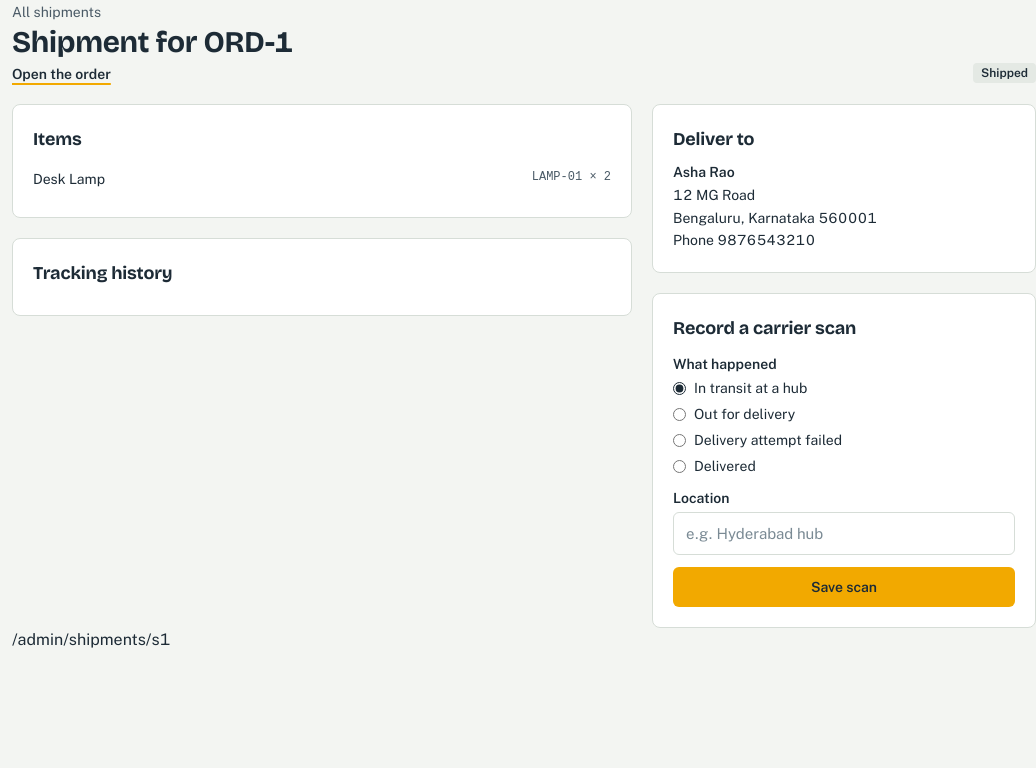
a shipment › needs a hub for an in-transit scan and a reason for a failed delivery
Click the button "Save scan".
click(844, 587)  # box [673, 567, 1015, 607]
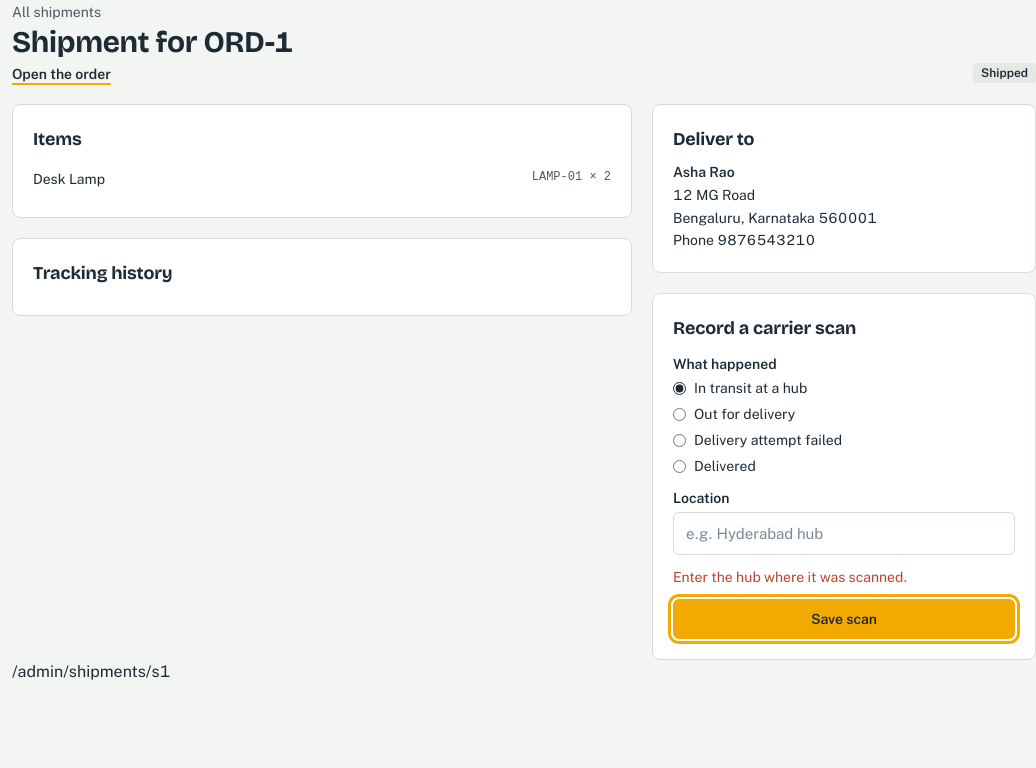
Expected: the text "Enter the hub where it was scanned." is shown, [673, 569, 908, 585]
Click the radio button labelled "Delivery attempt failed".
click(680, 440)  # box [673, 434, 686, 446]
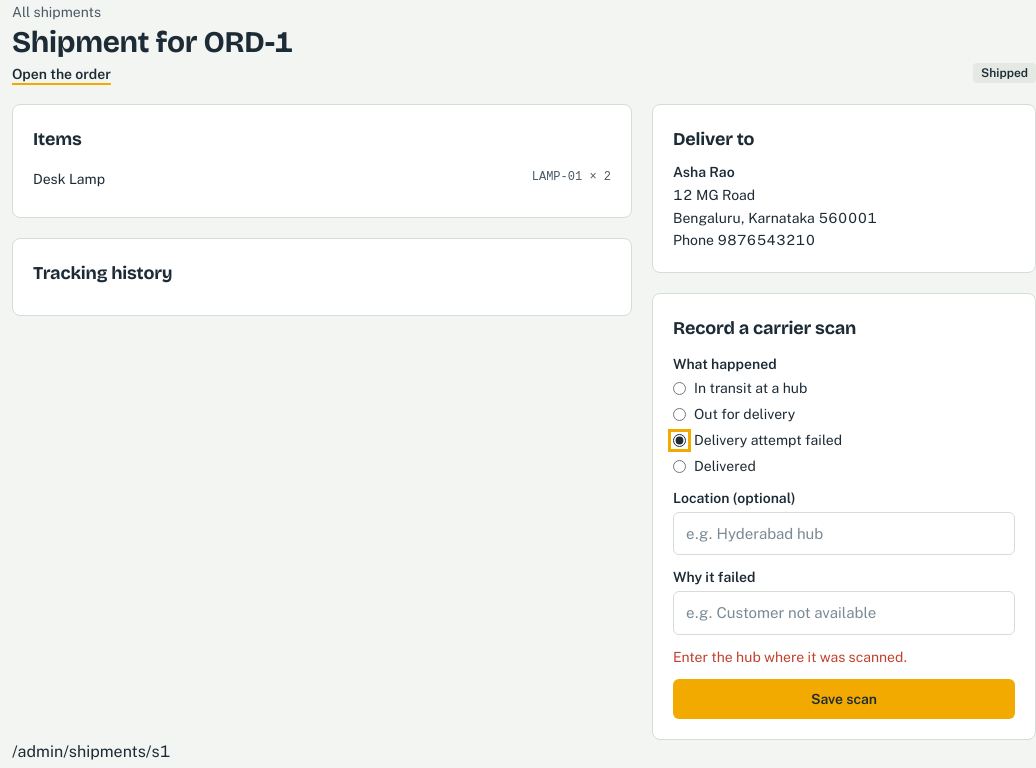
Click the button "Save scan".
click(844, 699)  # box [673, 679, 1015, 719]
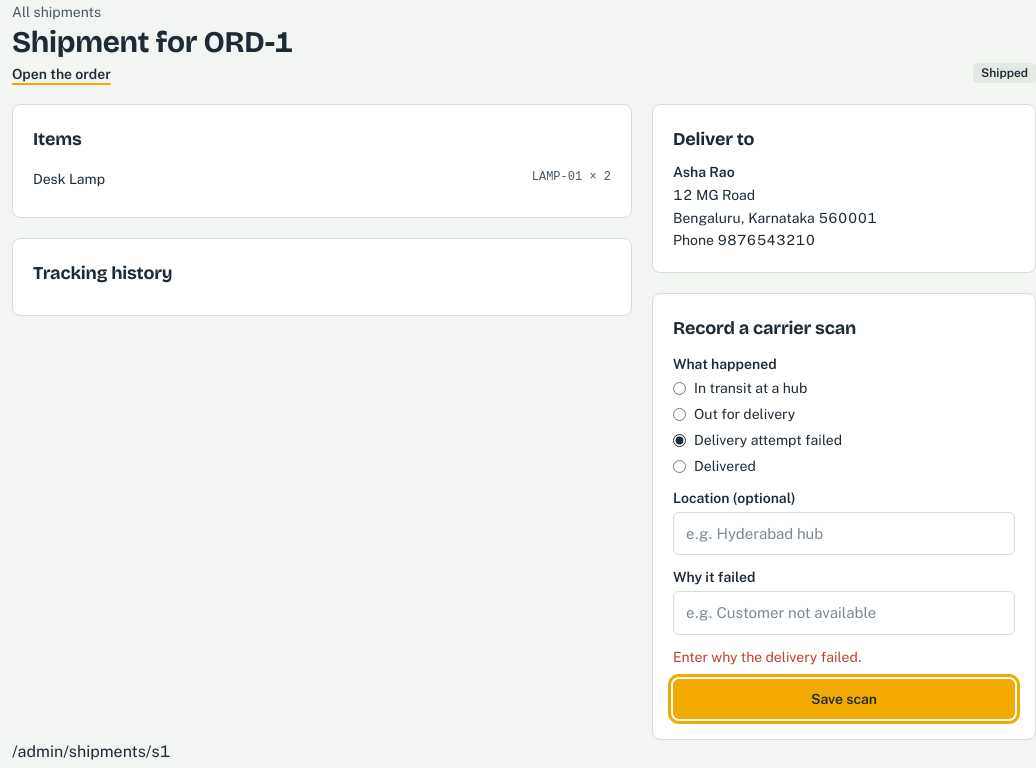
Expected: the text "Enter why the delivery failed." is shown, [673, 649, 862, 665]
Type "Customer not available" into the field labelled "Why it failed".
click(844, 613); type("Customer not available")  # box [673, 591, 1015, 635]
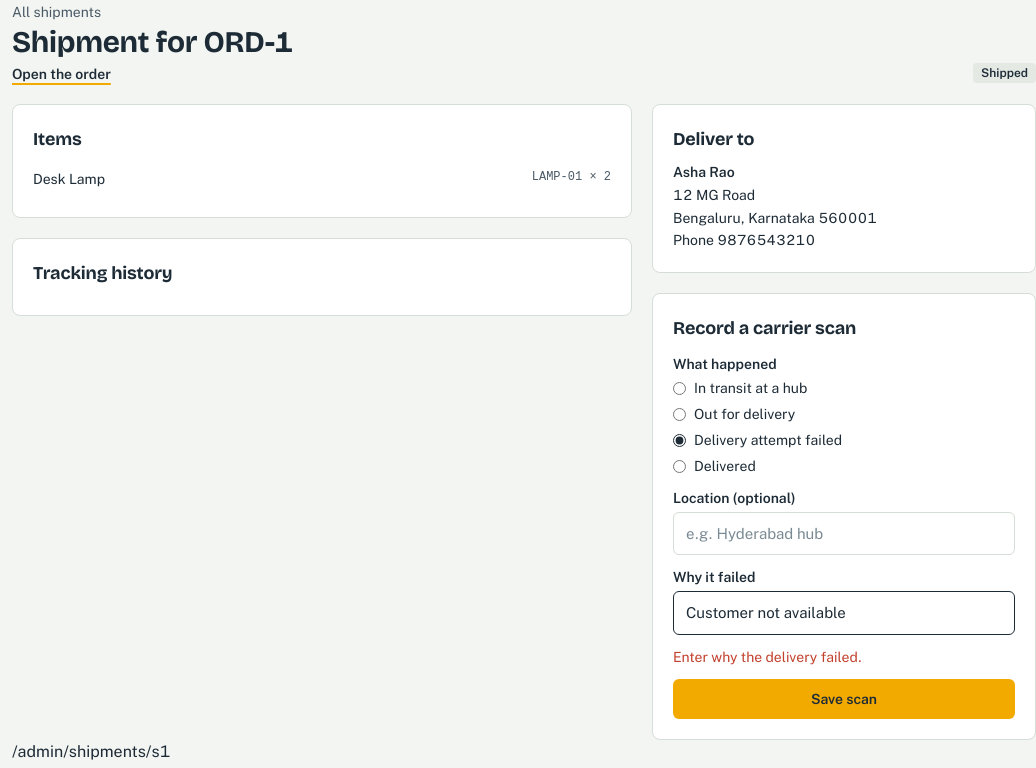
Click the button "Save scan".
click(844, 699)  # box [673, 679, 1015, 719]
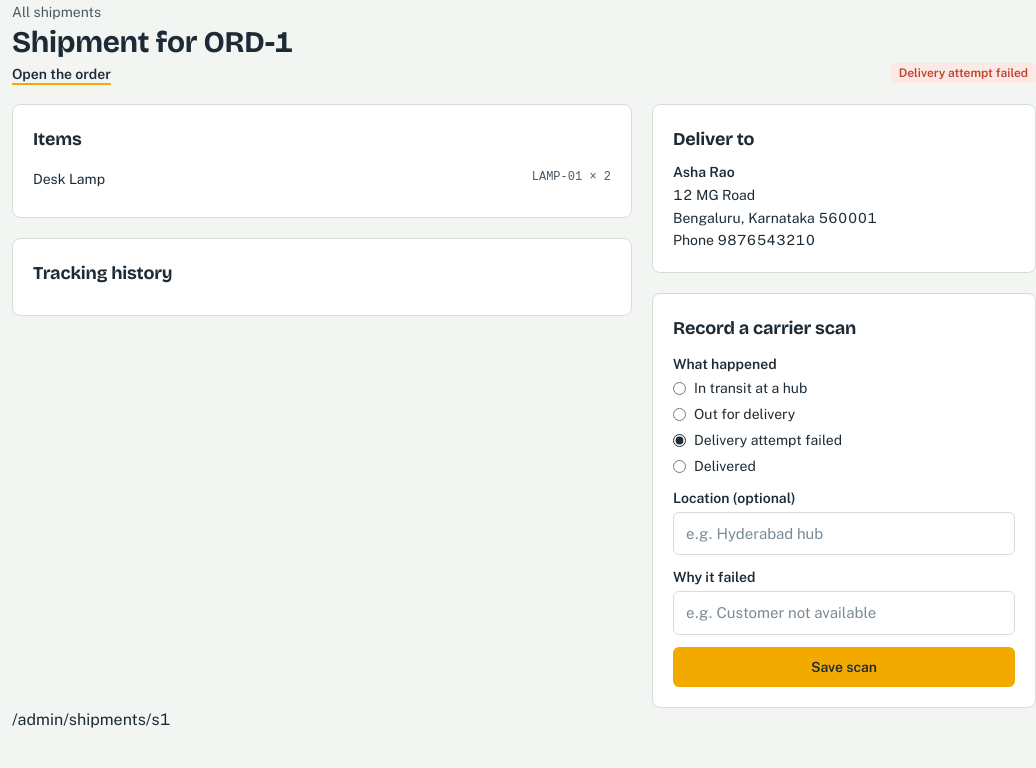
Expected: the element with test id "shipment-status" reads "Delivery attempt failed", [899, 66, 1028, 80]
